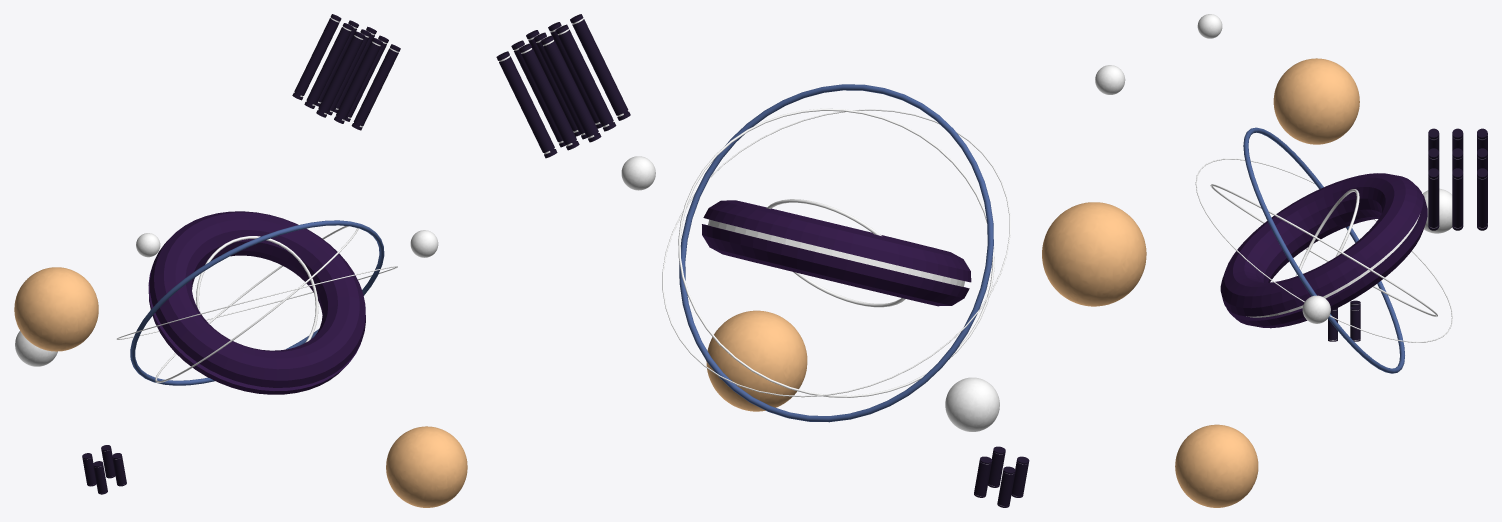
3 views of the same model, side by side, from view 1: azimuth 30°, elevation 25°; view 2: azimuth 150°, elevation 25°; view 3: azimuth 270°, elevation 25° (orthographic). The views are drawn at different scales.
Visible parts, largest first — view 1: Torus.001, Cylinder.016, Sphere_pink.001, Sphere_pink.003, Circle.002, Cylinder.021, Circle, Sphere_pink, Circle.003, Circle.001, Sphere_pink.002; view 2: Torus.001, Cylinder.016, Sphere_pink.001, Sphere_pink.003, Circle.002, Circle, Sphere_pink, Cylinder.021, Circle.003, Torus.002, Circle.001, Sphere_pink.002 (+1 smaller); view 3: Torus.001, Sphere_pink.001, Sphere_pink.003, Cylinder.016, Circle.002, Circle, Circle.003, Sphere_pink, Cylinder.021, Sphere_pink.002, Circle.001, Sphere_pink.004 (+1 smaller).
Boxes of the visible parts, x1=… form: Torus.001: x1=148, y1=211, x2=365, y2=394; Cylinder.016: x1=292, y1=14, x2=400, y2=130; Sphere_pink.001: x1=14, y1=267, x2=98, y2=351; Sphere_pink.003: x1=386, y1=426, x2=467, y2=507; Circle.002: x1=130, y1=220, x2=384, y2=385; Cylinder.021: x1=82, y1=445, x2=126, y2=494; Circle: x1=155, y1=226, x2=358, y2=382; Sphere_pink: x1=15, y1=331, x2=57, y2=366; Circle.003: x1=116, y1=266, x2=397, y2=339; Circle.001: x1=196, y1=236, x2=318, y2=342; Sphere_pink.002: x1=410, y1=230, x2=438, y2=257; Torus.001: x1=702, y1=200, x2=971, y2=306; Cylinder.016: x1=496, y1=14, x2=630, y2=158; Sphere_pink.001: x1=1042, y1=202, x2=1146, y2=306; Sphere_pink.003: x1=706, y1=310, x2=807, y2=411; Circle.002: x1=679, y1=84, x2=993, y2=422; Circle: x1=678, y1=108, x2=994, y2=397; Sphere_pink: x1=945, y1=377, x2=999, y2=431; Cylinder.021: x1=974, y1=446, x2=1029, y2=507; Circle.003: x1=662, y1=109, x2=1010, y2=397; Torus.002: x1=708, y1=219, x2=964, y2=286; Circle.001: x1=766, y1=199, x2=905, y2=307; Sphere_pink.002: x1=621, y1=156, x2=655, y2=190; Torus.001: x1=1220, y1=173, x2=1427, y2=328; Sphere_pink.001: x1=1273, y1=58, x2=1359, y2=144; Sphere_pink.003: x1=1175, y1=424, x2=1258, y2=507; Cylinder.016: x1=1428, y1=128, x2=1487, y2=230; Circle.002: x1=1243, y1=127, x2=1404, y2=373; Circle: x1=1210, y1=184, x2=1437, y2=316; Circle.003: x1=1195, y1=158, x2=1452, y2=342; Sphere_pink: x1=1423, y1=188, x2=1452, y2=233; Cylinder.021: x1=1328, y1=300, x2=1360, y2=341; Sphere_pink.002: x1=1302, y1=295, x2=1330, y2=323; Circle.001: x1=1295, y1=189, x2=1359, y2=276; Sphere_pink.004: x1=1197, y1=14, x2=1222, y2=38.
Bounding box in the file's own units: 10.68 × 8.99 × 6.47.
Materials: 3 (2 with a texture image).
